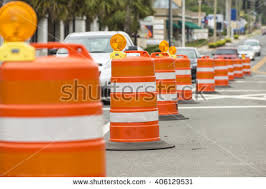barrel: (1, 44, 104, 177), (110, 51, 160, 140), (152, 58, 177, 116), (176, 58, 190, 102), (196, 58, 214, 92), (216, 59, 225, 87), (228, 59, 238, 81), (243, 58, 249, 74)
